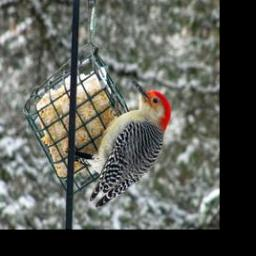Woodpecker: (70, 82, 171, 208)
